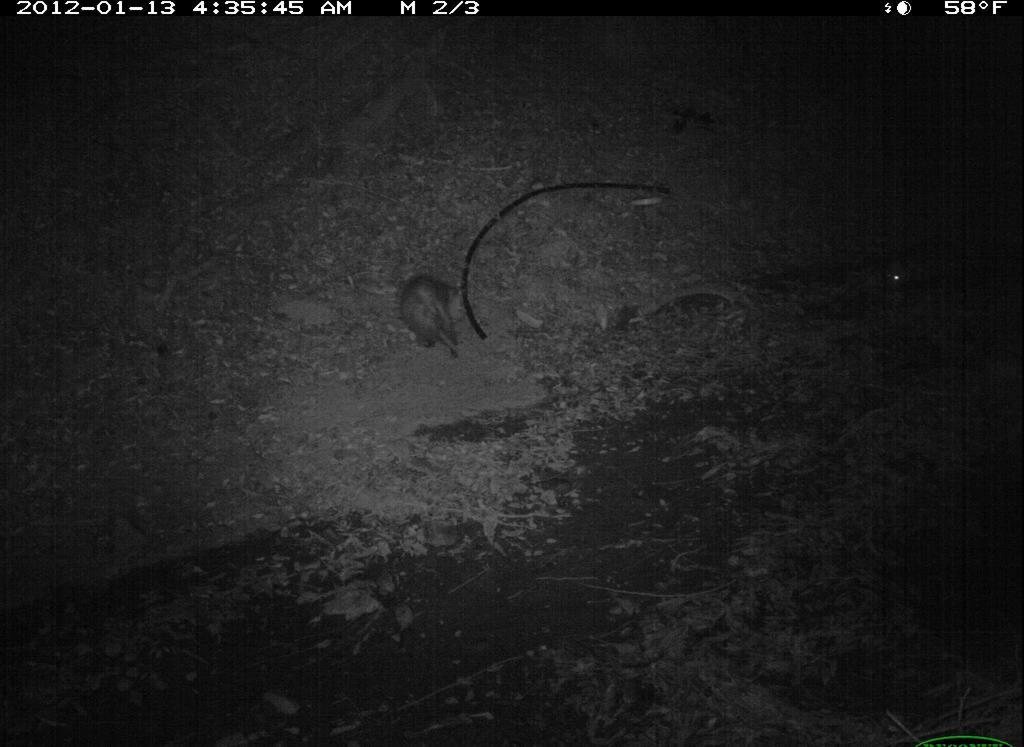opossum: (374, 265, 478, 368)
